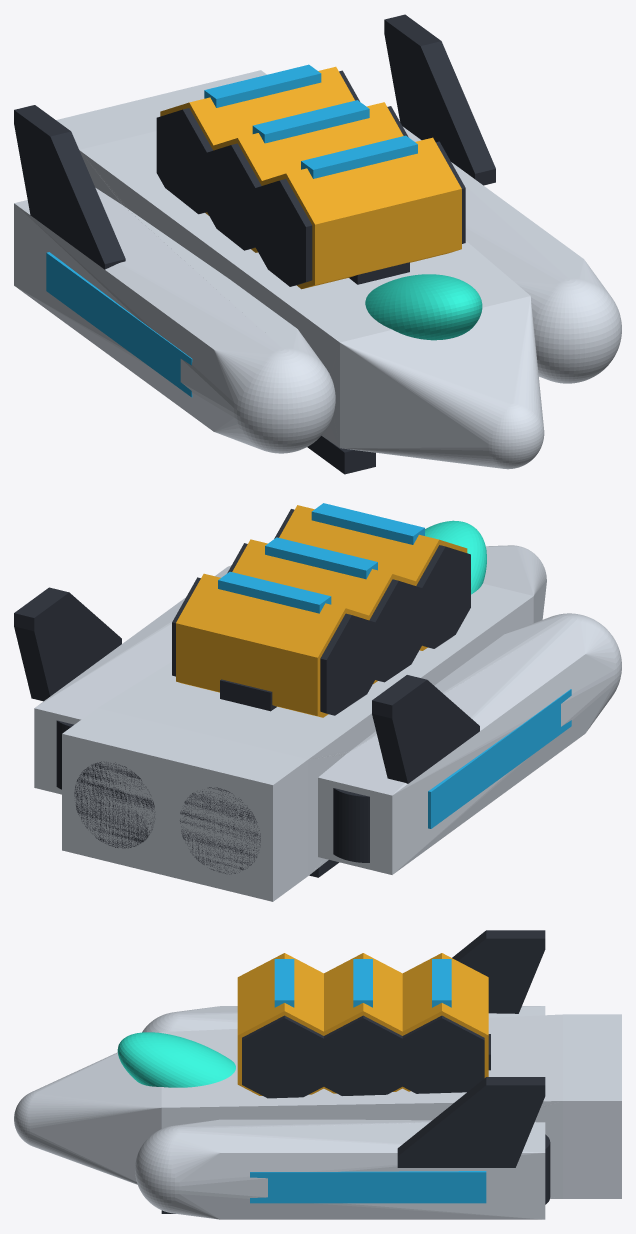
File: trade_ship.obj
3 views of the same model, one above another, from view 1: azimuth 30°, elevation 25°; view 2: azimuth 150°, elevation 25°; view 3: azimuth 270°, elevation 25° (orthographic). The views are drawn at different scales.
Visible parts, largest first — view 1: trade_ship; view 2: trade_ship; view 3: trade_ship.
Boxes of the visible parts, x1,y1,x2,y2 form: trade_ship: (14,14,621,474); trade_ship: (14,503,621,901); trade_ship: (14,930,621,1219).
Size of the model in its own units: 15.12 by 8.9 by 24.72.
